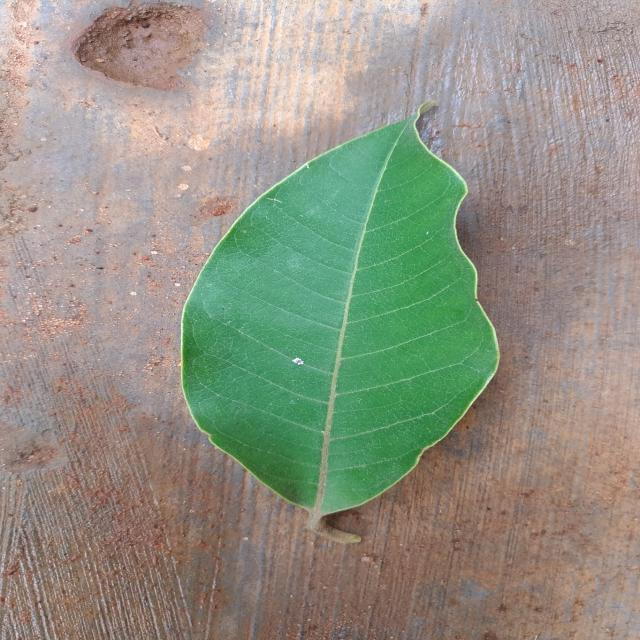coffee: (182, 101, 498, 544)
